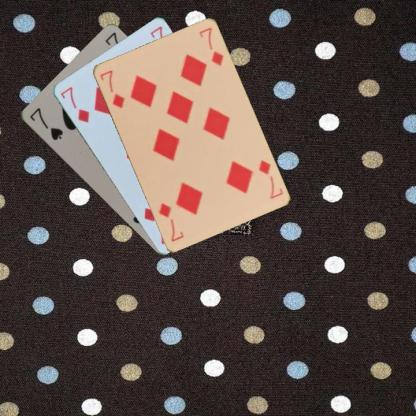7d: (57, 84, 91, 124), (97, 67, 126, 110), (256, 157, 284, 201)
7s: (27, 105, 64, 142)
